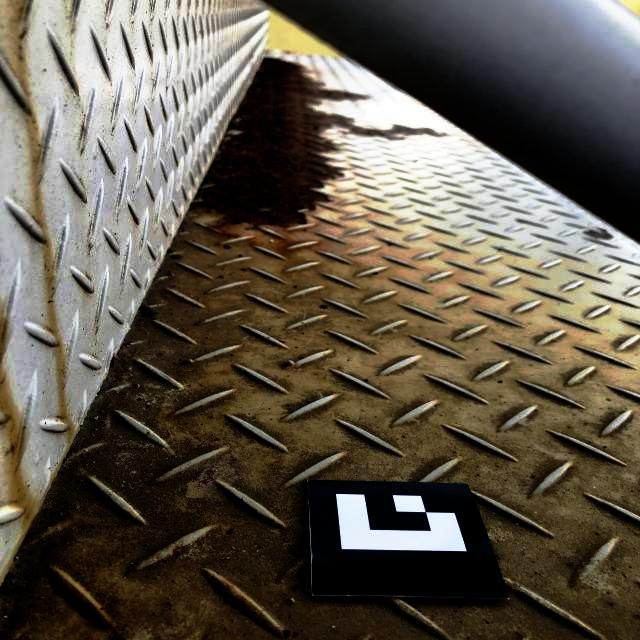Corrosion: (191, 58, 443, 229), (221, 583, 240, 606), (585, 228, 614, 239)
